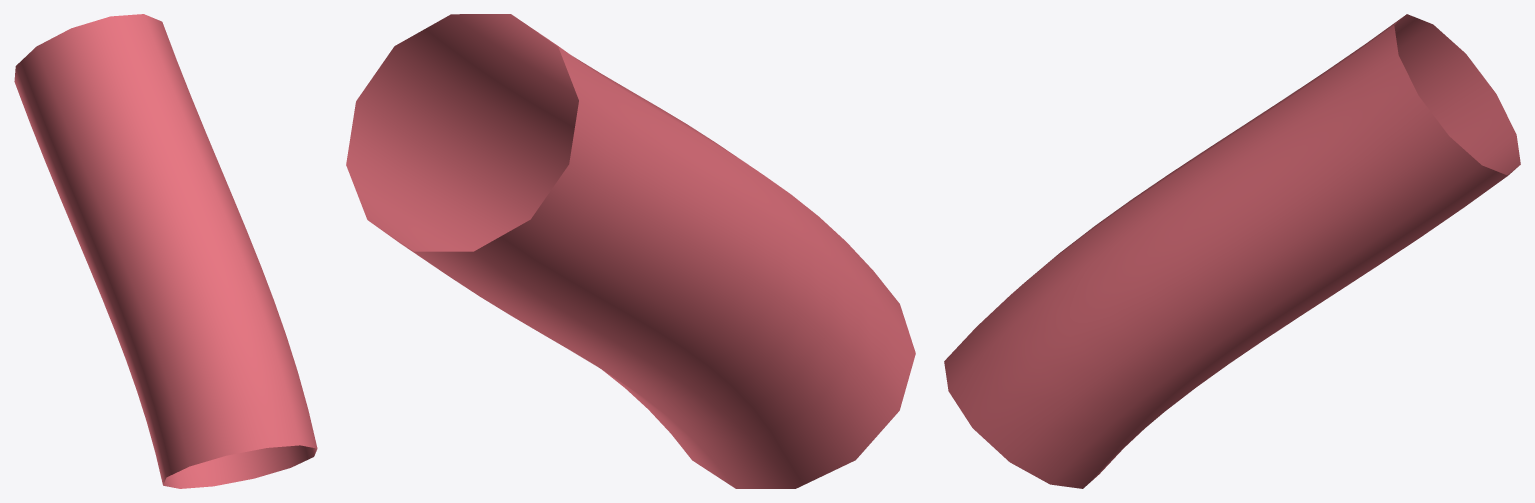
The picture shows the model from 3 angles, left to right: view 1: azimuth 30°, elevation 25°; view 2: azimuth 150°, elevation 25°; view 3: azimuth 270°, elevation 25°; orthographic projection. The views are drawn at different scales.
Parts seen in each view (by area): view 1: ZA_58a293ee3445c648; view 2: ZA_58a293ee3445c648; view 3: ZA_58a293ee3445c648.
Boxes of the visible parts, left/top/right/bottom form: ZA_58a293ee3445c648: left=14, top=14, right=317, bottom=488; ZA_58a293ee3445c648: left=346, top=14, right=915, bottom=488; ZA_58a293ee3445c648: left=944, top=14, right=1520, bottom=488.
Bounding box in the file's own units: 0.00475 × 0.0104 × 0.0118.
